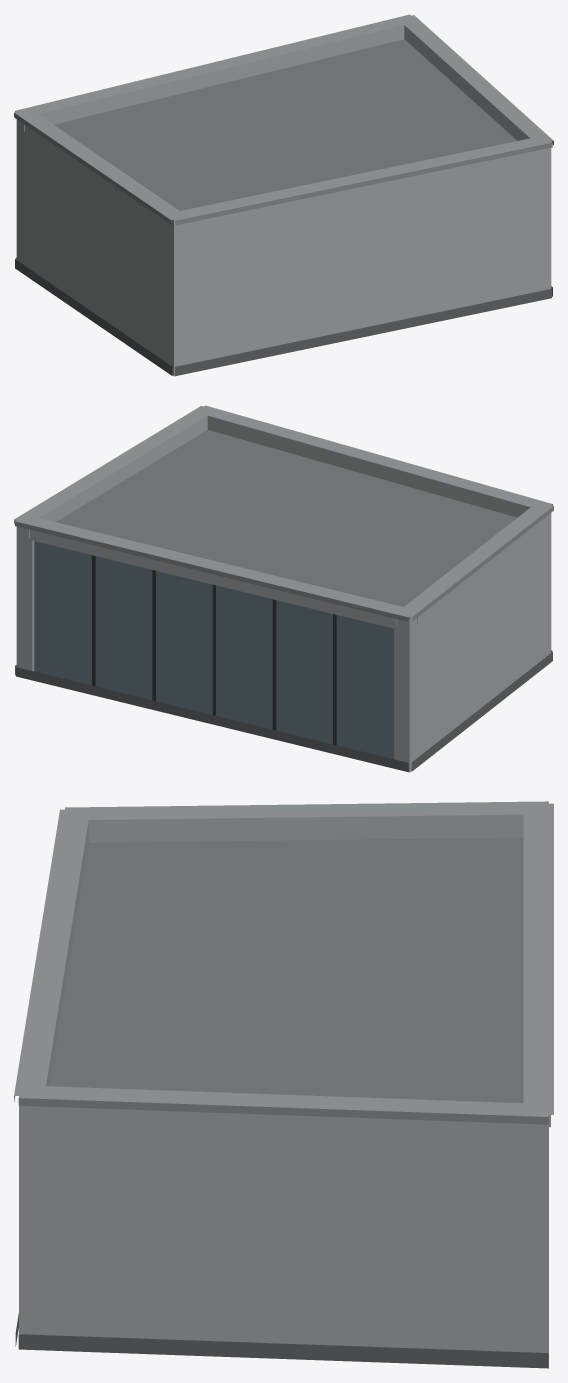
3 views of the same model, one above another, from view 1: azimuth 30°, elevation 25°; view 2: azimuth 150°, elevation 25°; view 3: azimuth 270°, elevation 25° (orthographic). The views are drawn at different scales.
Visible parts, largest first — view 1: mediaCenter__wall, mediaCenter__roof, mediaCenter__trim, mediaCenter__parapet, mediaCenter__base; view 2: mediaCenter__glass, mediaCenter__roof, mediaCenter__wall, mediaCenter__trim, mediaCenter__parapet, mediaCenter__base, mediaCenter__frame; view 3: mediaCenter__roof, mediaCenter__wall, mediaCenter__trim, mediaCenter__parapet, mediaCenter__base.
Boxes of the visible parts, x1,y1,x2,y2 form: mediaCenter__wall: (16, 126, 551, 375); mediaCenter__roof: (54, 39, 516, 376); mediaCenter__trim: (14, 14, 553, 225); mediaCenter__parapet: (16, 25, 551, 233); mediaCenter__base: (15, 257, 552, 376); mediaCenter__glass: (34, 541, 393, 759); mediaCenter__roof: (56, 430, 516, 772); mediaCenter__wall: (16, 519, 551, 771); mediaCenter__trim: (14, 405, 553, 621); mediaCenter__parapet: (16, 416, 551, 630); mediaCenter__base: (15, 650, 552, 772); mediaCenter__frame: (92, 555, 336, 745); mediaCenter__roof: (26, 837, 548, 1368); mediaCenter__wall: (19, 1119, 548, 1366); mediaCenter__trim: (14, 801, 553, 1124); mediaCenter__parapet: (19, 814, 550, 1137); mediaCenter__base: (15, 1313, 548, 1368).
Size of the model in its own units: 8.86 by 3.32 by 6.41.
